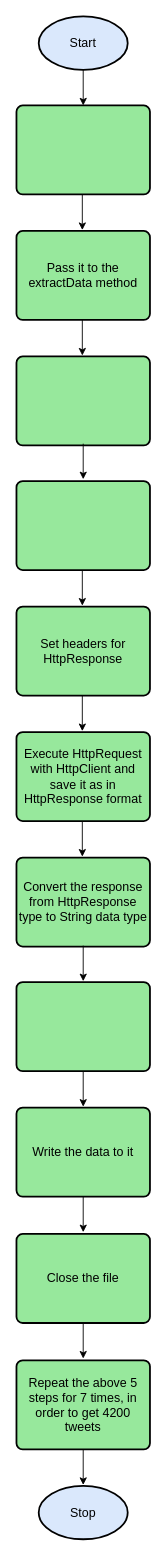
This 166x1555 diagram has some shape labels left out. The shapes that lost their labels are listed below. From the top down, each one's box as (x1, y1, x2, y2) in pixels, then its label:
(15, 104, 150, 195): Set the bearer token as from the developer account details
(15, 355, 150, 446): Create a HttpClient
(15, 480, 150, 570): Build a HttpRequest with the url we create for extracting queries
(15, 981, 150, 1072): Create a new .txt file
